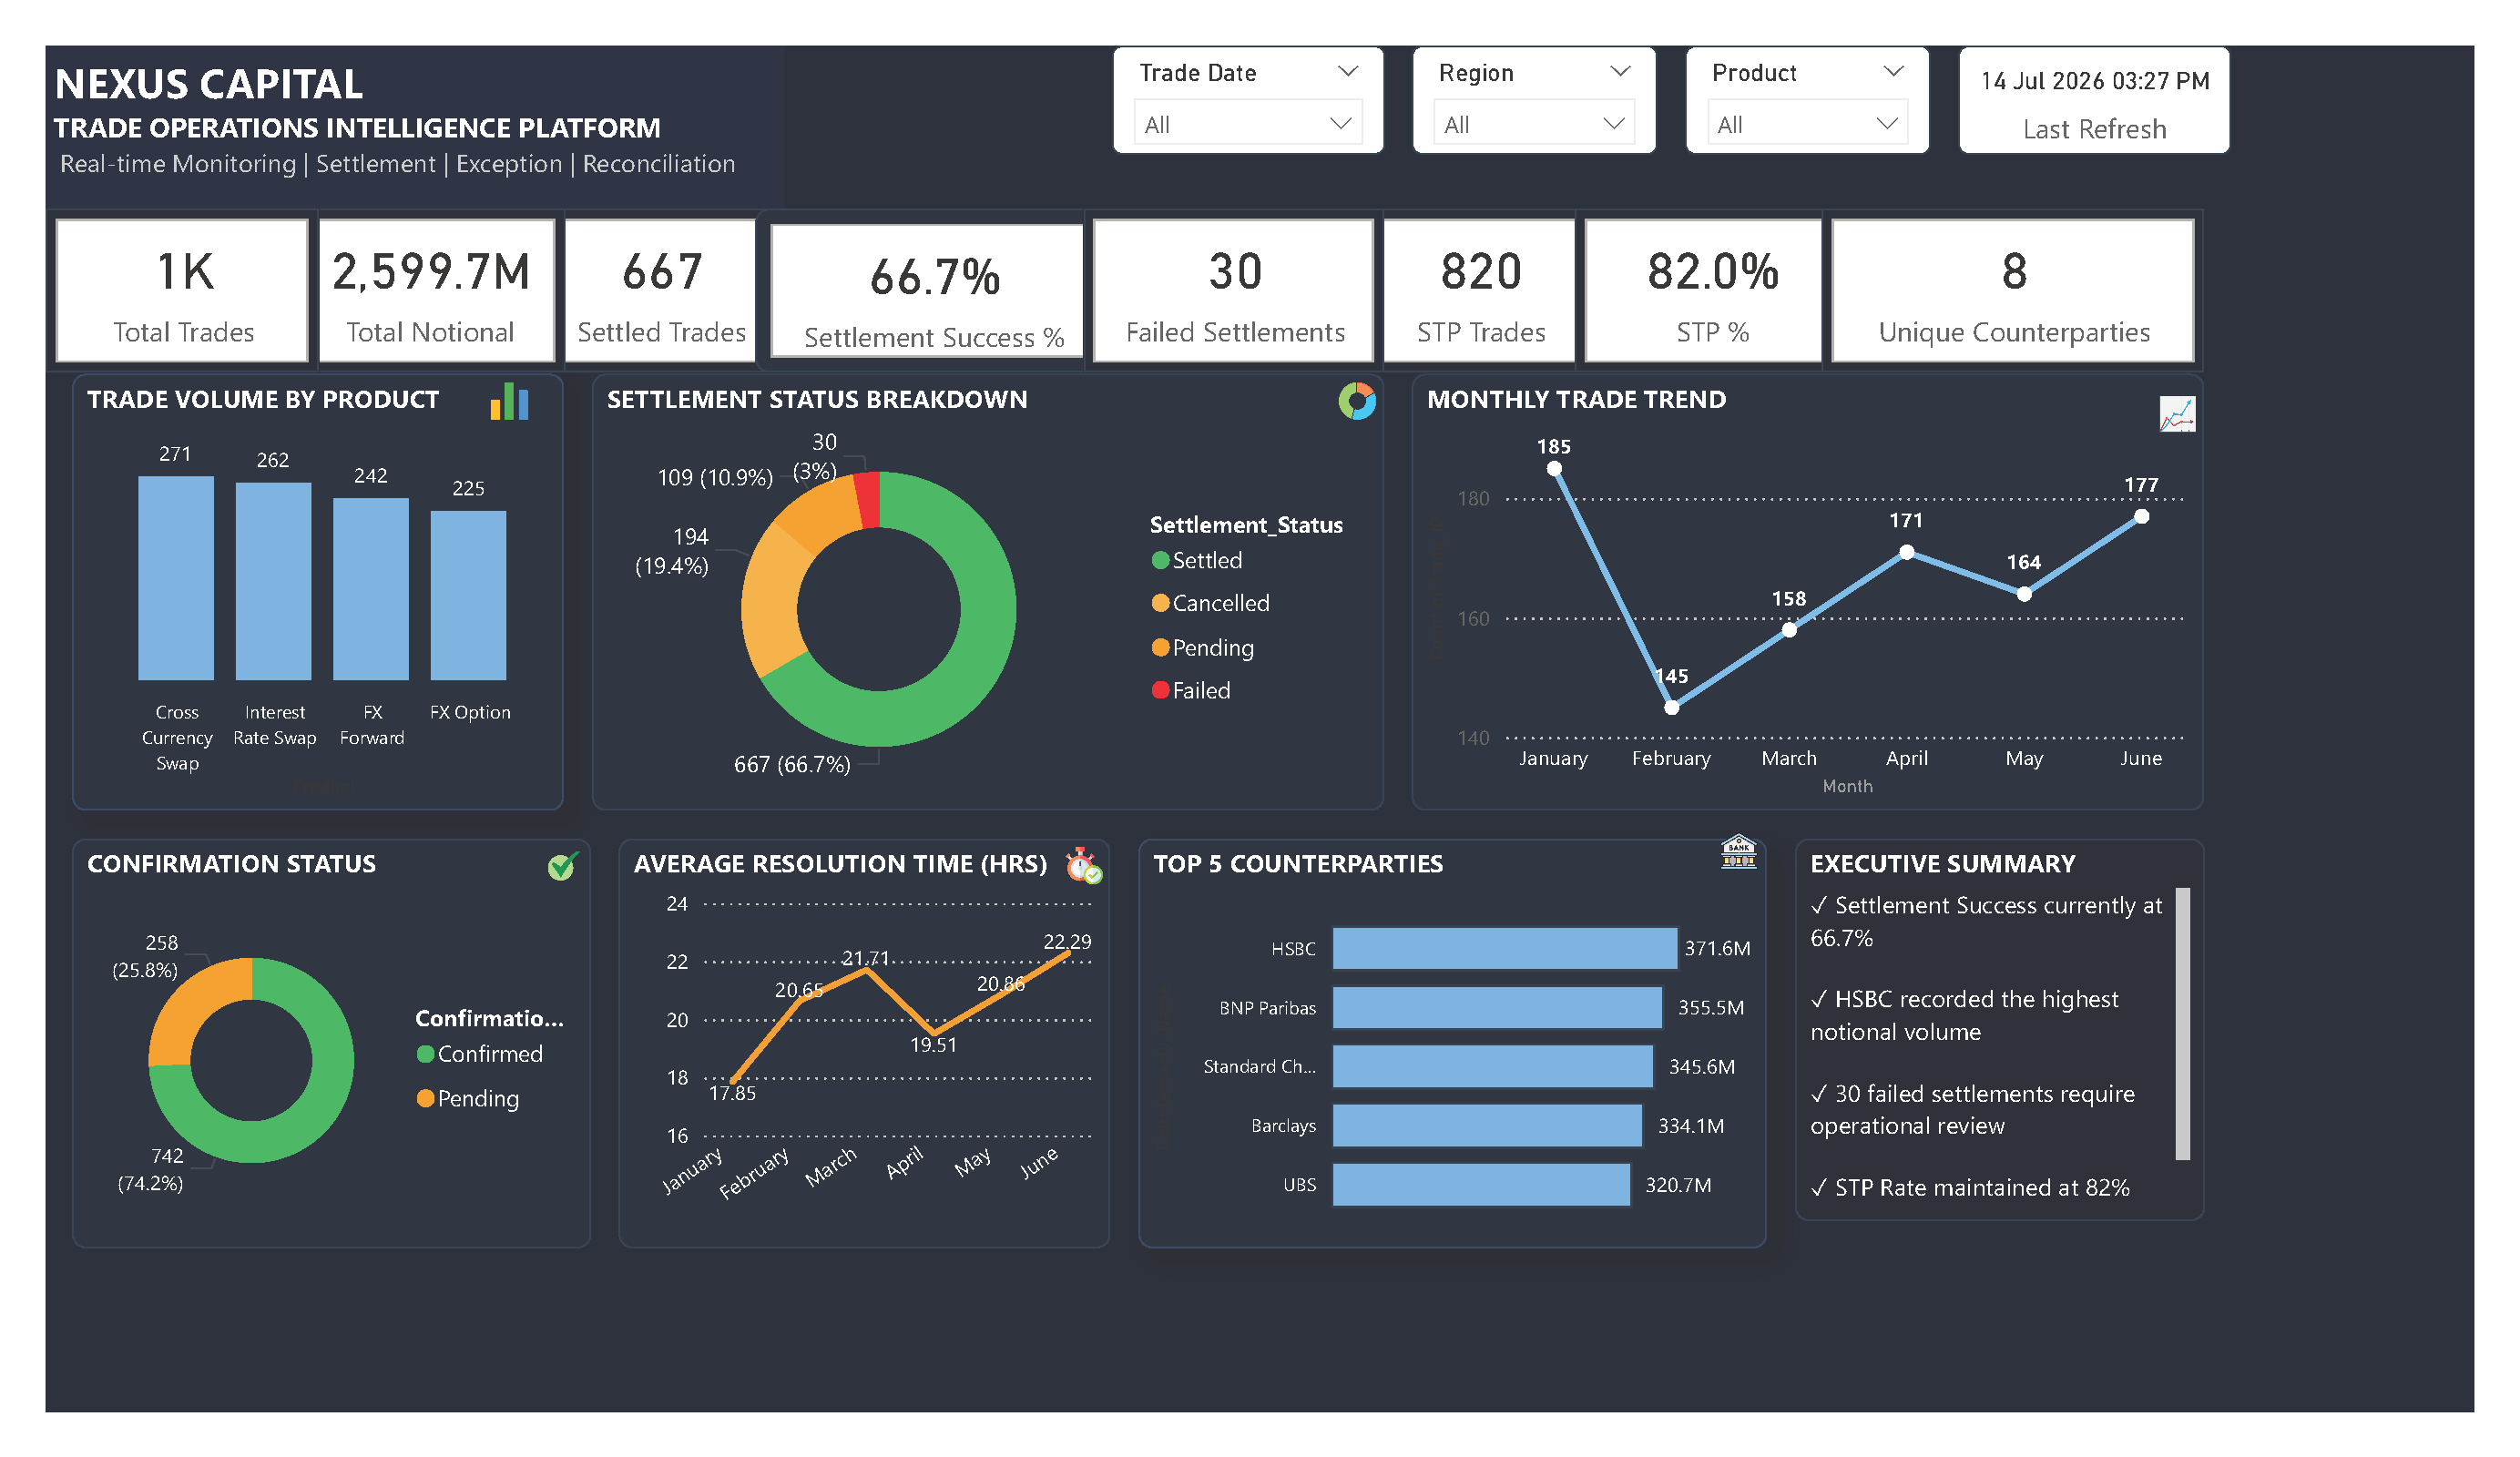

This screenshot's page, from the dashboard's own definition file:
{"tool":"powerbi","page":{"name":"🏠 Executive Dashboard","canvas":[1280,720],"ordinal":0},"visuals":[{"type":"textbox","box":[0,0,432,96],"z":0},{"type":"clusteredColumnChart","title":"TRADE VOLUME BY PRODUCT","fields":{"Category":["trade_operations_db trade_details.Product"],"Y":["CountNonNull(trade_operations_db trade_details.Trade_ID)"]},"box":[16,192,288,256],"z":1000},{"type":"donutChart","title":"SETTLEMENT STATUS BREAKDOWN","fields":{"Category":["trade_operations_db trade_details.Settlement_Status"],"Y":["CountNonNull(trade_operations_db trade_details.Trade_ID)"]},"box":[320,192,464,256],"z":2000},{"type":"lineChart","title":"MONTHLY TRADE TREND","fields":{"Category":["trade_operations_db trade_details.Trade_Date.Variation.Date Hierarchy.Month"],"Y":["CountNonNull(trade_operations_db trade_details.Trade_ID)"]},"box":[800,192,464,256],"z":3000},{"type":"donutChart","title":"CONFIRMATION STATUS","fields":{"Y":["CountNonNull(trade_operations_db trade_details.Trade_ID)"],"Category":["trade_operations_db trade_details.Confirmation_Status"]},"box":[16,464,304,240],"z":4000},{"type":"lineChart","title":"AVERAGE RESOLUTION TIME (HRS)","fields":{"Y":["Avg(Exception.Resolution Time_Hours)"],"Category":["Trade Details.Trade Date.Variation.Date Hierarchy.Month"]},"box":[336,464,288,240],"z":5000},{"type":"slicer","fields":{"Values":["trade_operations_db trade_details.Trade_Date"]},"box":[624,0,160,64],"z":6000},{"type":"slicer","fields":{"Values":["trade_operations_db counterparty.Region"]},"box":[800,0,144,64],"z":7000},{"type":"slicer","fields":{"Values":["trade_operations_db trade_details.Product"]},"box":[960,0,144,64],"z":8000},{"type":"textbox","title":"EXECUTIVE SUMMARY","box":[1024,464,240,224],"z":9000},{"type":"cardVisual","fields":{"Data":["trade_operations_db counterparty.STP Trades"]},"box":[768,96,144,96],"z":10000},{"type":"cardVisual","fields":{"Data":["trade_operations_db counterparty.STP %"]},"box":[896,96,160,96],"z":11000},{"type":"cardVisual","fields":{"Data":["trade_operations_db counterparty.Unique Counterparties"]},"box":[1040,96,224,96],"z":12000},{"type":"cardVisual","fields":{"Data":["trade_operations_db counterparty.Settled Trades"]},"box":[288,96,144,96],"z":13000},{"type":"cardVisual","fields":{"Data":["trade_operations_db counterparty.Settlement Success %"]},"box":[416,96,208,96],"z":14000},{"type":"cardVisual","fields":{"Data":["trade_operations_db counterparty.Failed Settlements"]},"box":[608,96,176,96],"z":15000},{"type":"cardVisual","fields":{"Data":["Sum(trade_operations_db trade_details.Notional_Amount)"]},"box":[144,96,160,96],"z":16000},{"type":"card","fields":{"Values":["Query1.Last Refresh"]},"box":[1120,0,160,64],"z":17000},{"type":"clusteredBarChart","title":"TOP 5 COUNTERPARTIES","fields":{"Category":["Counterparty.Counterparty_Name"],"Y":["Counterparty.Total Notional Amount"]},"box":[640,464,368,240],"z":18000},{"type":"cardVisual","title":"Total Trades","fields":{"Data":["CountNonNull(Trade Details.Trade_ID)"]},"box":[0,96,160,96],"z":19000},{"type":"image","box":[256,192,32,32],"z":20000},{"type":"image","box":[752,192,32,32],"z":21000},{"type":"image","box":[1232,192,32,48],"z":22000},{"type":"image","box":[288,464,32,32],"z":23000},{"type":"image","box":[976,448,32,48],"z":24000},{"type":"image","box":[592,464,32,32],"z":25000}]}

Visuals, with their boxes on the page's 1280x720 design canvas (x1, y1, x2, y2). These are canvas units, not pixel positions in the 2520x1457 screenshot, which may show the page scaled, cropped or inside an application window:
textbox: <region>0, 0, 432, 96</region>
"TRADE VOLUME BY PRODUCT" clusteredColumnChart: <region>16, 192, 304, 448</region>
"SETTLEMENT STATUS BREAKDOWN" donutChart: <region>320, 192, 784, 448</region>
"MONTHLY TRADE TREND" lineChart: <region>800, 192, 1264, 448</region>
"CONFIRMATION STATUS" donutChart: <region>16, 464, 320, 704</region>
"AVERAGE RESOLUTION TIME (HRS)" lineChart: <region>336, 464, 624, 704</region>
slicer - trade_operations_db trade_details.Trade_Date: <region>624, 0, 784, 64</region>
slicer - trade_operations_db counterparty.Region: <region>800, 0, 944, 64</region>
slicer - trade_operations_db trade_details.Product: <region>960, 0, 1104, 64</region>
"EXECUTIVE SUMMARY" textbox: <region>1024, 464, 1264, 688</region>
cardVisual - trade_operations_db counterparty.STP Trades: <region>768, 96, 912, 192</region>
cardVisual - trade_operations_db counterparty.STP %: <region>896, 96, 1056, 192</region>
cardVisual - trade_operations_db counterparty.Unique Counterparties: <region>1040, 96, 1264, 192</region>
cardVisual - trade_operations_db counterparty.Settled Trades: <region>288, 96, 432, 192</region>
cardVisual - trade_operations_db counterparty.Settlement Success %: <region>416, 96, 624, 192</region>
cardVisual - trade_operations_db counterparty.Failed Settlements: <region>608, 96, 784, 192</region>
cardVisual - Sum(trade_operations_db trade_details.Notional_Amount): <region>144, 96, 304, 192</region>
card - Query1.Last Refresh: <region>1120, 0, 1280, 64</region>
"TOP 5 COUNTERPARTIES" clusteredBarChart: <region>640, 464, 1008, 704</region>
"Total Trades" cardVisual: <region>0, 96, 160, 192</region>
image: <region>256, 192, 288, 224</region>
image: <region>752, 192, 784, 224</region>
image: <region>1232, 192, 1264, 240</region>
image: <region>288, 464, 320, 496</region>
image: <region>976, 448, 1008, 496</region>
image: <region>592, 464, 624, 496</region>
